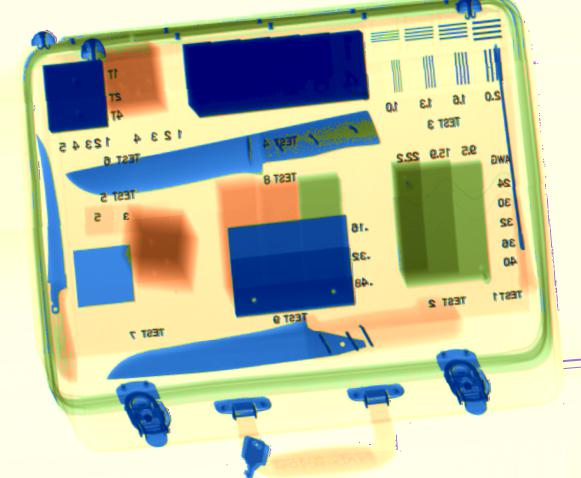Knife: (65, 109, 383, 196), (105, 313, 400, 379), (34, 133, 78, 385)
